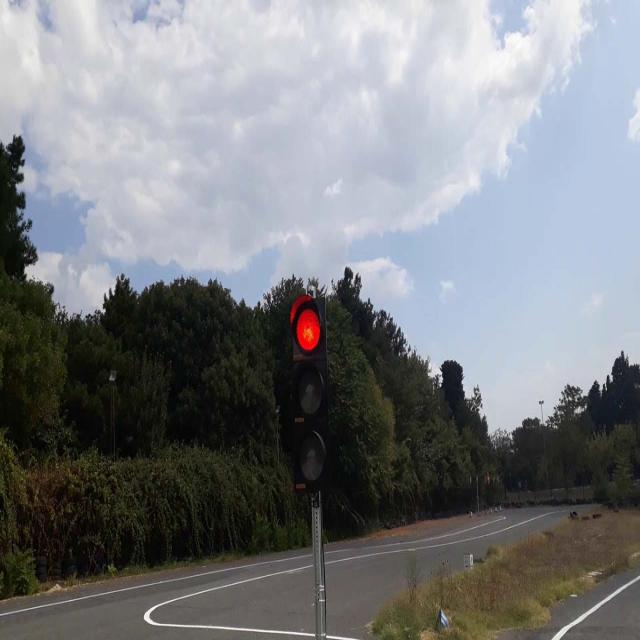kirmizi: (291, 294, 329, 491)
